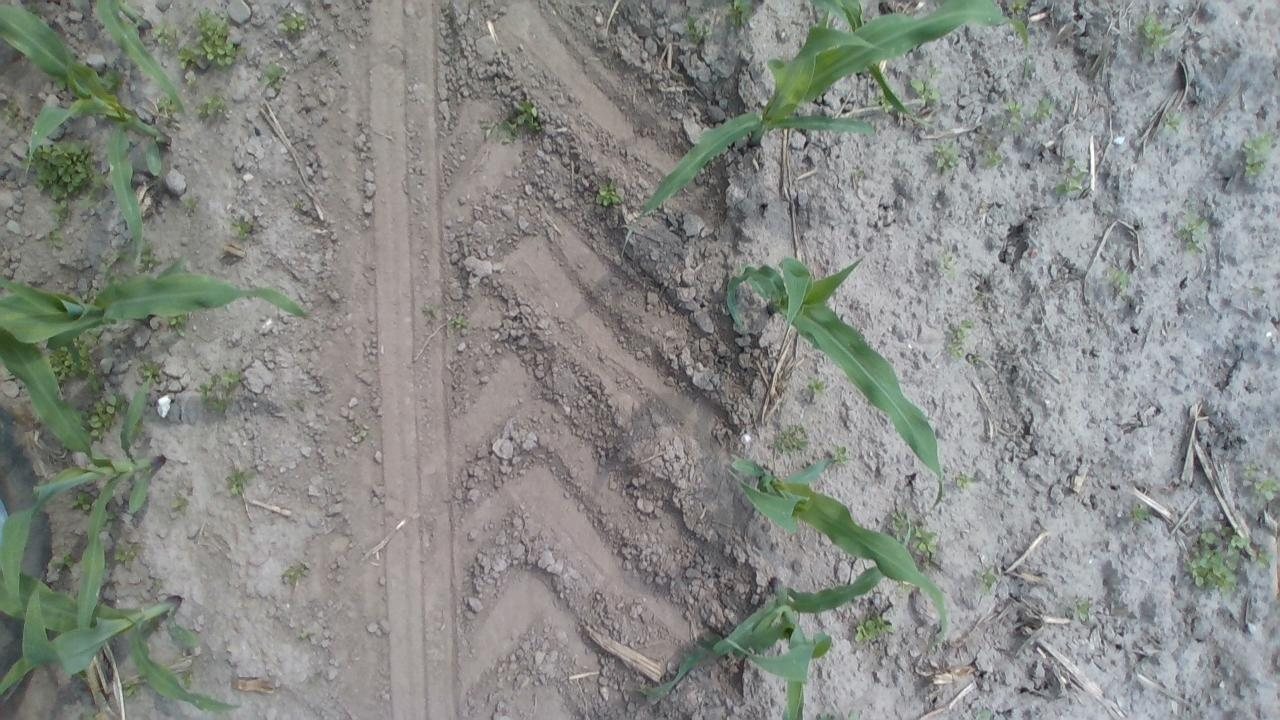Maize: (617, 0, 1031, 261), (0, 305, 171, 666), (723, 254, 946, 512), (726, 446, 949, 654), (1, 1, 170, 271), (0, 564, 241, 716), (1, 255, 312, 353), (708, 562, 888, 717), (810, 1, 940, 134), (94, 1, 190, 118)
Weeds: (19, 138, 106, 204), (1188, 528, 1272, 593), (180, 8, 246, 72), (51, 332, 101, 386), (892, 512, 940, 564), (75, 394, 126, 440), (197, 367, 244, 413), (1240, 127, 1276, 180), (1136, 12, 1173, 58), (1174, 210, 1210, 257), (852, 610, 895, 646), (1054, 156, 1090, 196), (1242, 468, 1279, 506), (502, 100, 542, 135), (771, 422, 809, 458), (909, 522, 940, 565), (909, 68, 942, 106), (948, 315, 974, 362), (193, 90, 229, 122), (278, 11, 312, 42), (594, 177, 626, 209), (722, 0, 756, 30), (112, 538, 142, 572), (680, 14, 710, 44), (932, 141, 962, 171), (1104, 264, 1132, 296), (48, 546, 76, 577), (980, 140, 1009, 168), (260, 61, 286, 92), (225, 466, 251, 497), (152, 21, 180, 49), (974, 564, 1002, 592), (156, 93, 182, 122), (1160, 109, 1186, 138), (100, 66, 126, 95), (279, 562, 310, 586), (133, 248, 160, 274), (1030, 95, 1057, 121), (1128, 500, 1153, 528), (230, 214, 258, 238), (936, 253, 960, 280), (138, 360, 164, 384), (1000, 98, 1026, 122), (1, 99, 20, 131), (166, 310, 192, 333), (1071, 597, 1094, 623), (870, 92, 894, 114), (953, 469, 975, 493), (46, 204, 70, 226), (44, 228, 68, 250), (831, 445, 852, 470), (72, 490, 95, 512), (446, 311, 468, 334), (177, 664, 196, 688), (806, 379, 827, 400), (295, 627, 315, 645), (352, 422, 370, 442), (168, 494, 188, 512), (420, 302, 438, 322), (180, 195, 199, 212), (50, 78, 69, 95), (103, 507, 116, 529), (972, 706, 994, 718), (1011, 0, 1028, 12)
